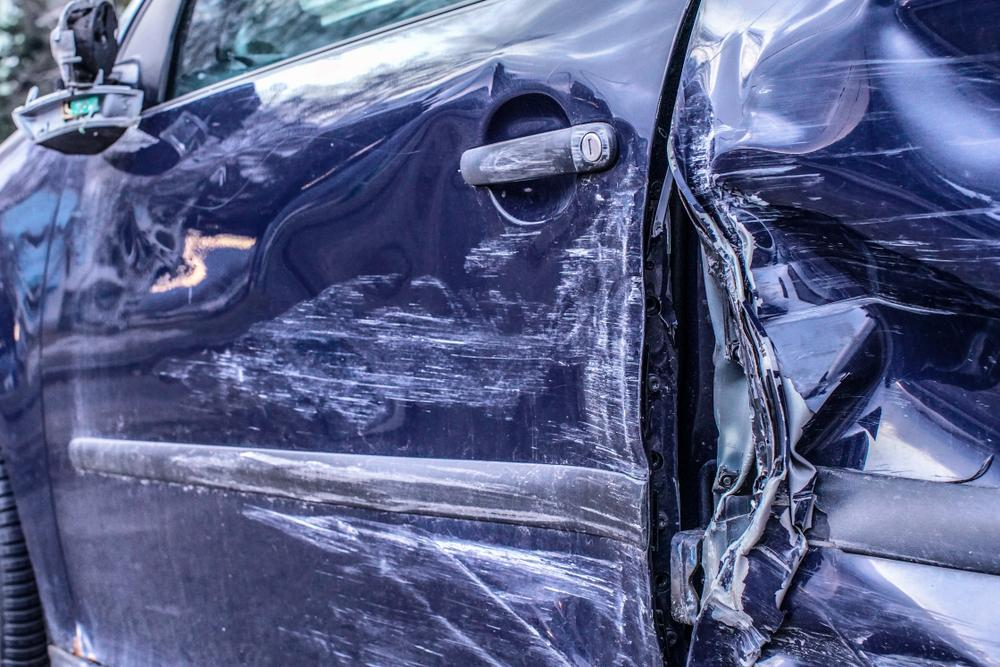dent: (684, 0, 1000, 535), (219, 108, 601, 424)
scratch: (154, 161, 667, 667), (758, 125, 1000, 297), (753, 570, 1000, 667)
